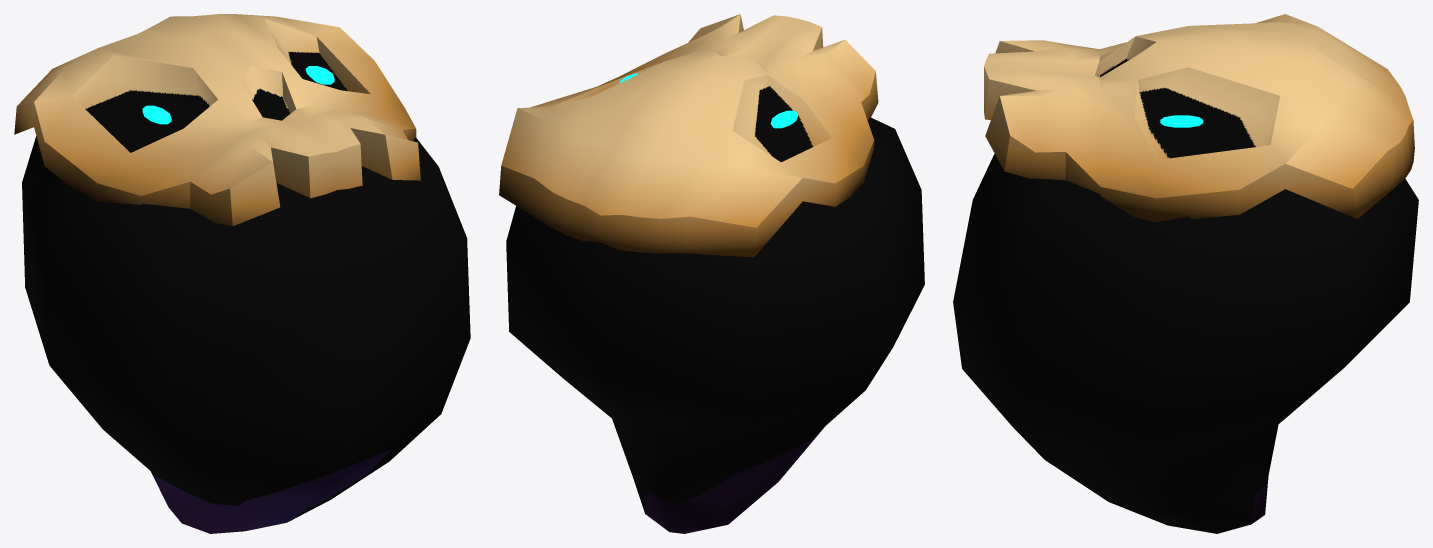
The model's file is Enemy.fbx.
The picture shows the model from 3 angles, left to right: view 1: azimuth 30°, elevation 25°; view 2: azimuth 150°, elevation 25°; view 3: azimuth 270°, elevation 25°; orthographic projection. The views are drawn at different scales.
Parts seen in each view (by area): view 1: Enemy; view 2: Enemy; view 3: Enemy.
Boxes of the visible parts, x1,y1,x2,y2 form: Enemy: [14, 14, 470, 533]; Enemy: [499, 14, 924, 533]; Enemy: [953, 14, 1418, 533].
Size of the model in its own units: 0.721 by 0.868 by 0.7481.
Materials: 3 (2 with a texture image).
